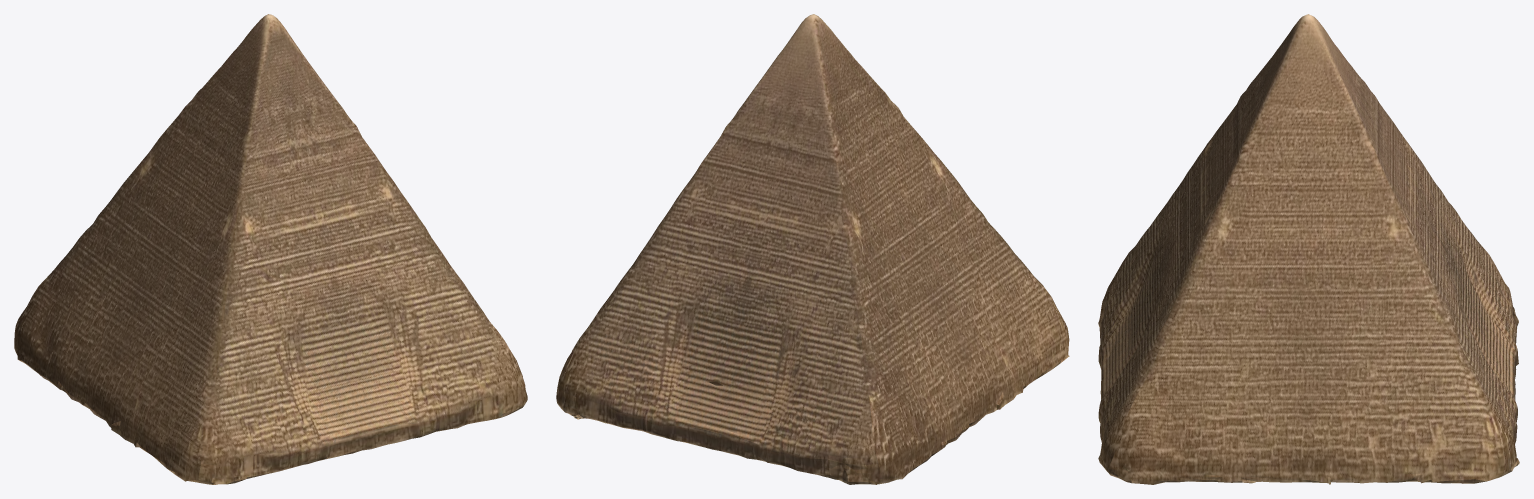
Rendered from pyramid-giza.glb.
The picture shows the model from 3 angles, left to right: view 1: azimuth 30°, elevation 25°; view 2: azimuth 150°, elevation 25°; view 3: azimuth 270°, elevation 25°; orthographic projection. The views are drawn at different scales.
Parts seen in each view (by area): view 1: pyramid; view 2: pyramid; view 3: pyramid.
Part boxes in pixels (x1,y1,x2,y2): pyramid: [14, 14, 527, 484]; pyramid: [556, 14, 1069, 484]; pyramid: [1098, 14, 1519, 484].
Bounding box in the file's own units: 1 × 1 × 1.
Materials: 1 (1 with a texture image).
